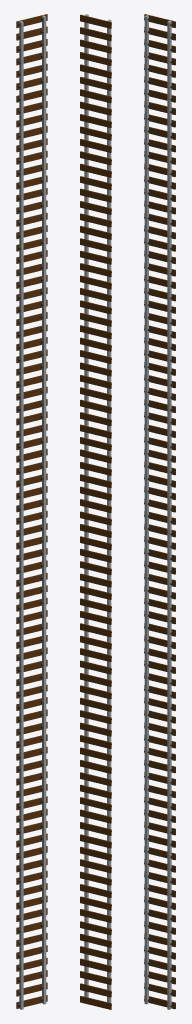
The model's file is tinker.obj.
The picture shows the model from 3 angles, left to right: view 1: azimuth 30°, elevation 25°; view 2: azimuth 150°, elevation 25°; view 3: azimuth 330°, elevation 25°; orthographic projection.
Parts seen in each view (by area): view 1: group_0_6306067, group_0_10988977, group_0_2829873; view 2: group_0_6306067, group_0_10988977; view 3: group_0_6306067, group_0_10988977, group_0_2829873.
Boxes of the visible parts, x1=… form: group_0_6306067: x1=16, y1=14, x2=47, y2=1008; group_0_10988977: x1=19, y1=15, x2=46, y2=1009; group_0_2829873: x1=18, y1=18, x2=46, y2=1007; group_0_6306067: x1=80, y1=14, x2=111, y2=1009; group_0_10988977: x1=84, y1=14, x2=111, y2=1002; group_0_6306067: x1=144, y1=14, x2=175, y2=1009; group_0_10988977: x1=144, y1=15, x2=171, y2=1009; group_0_2829873: x1=144, y1=18, x2=172, y2=1007.
Bounding box in the file's own units: 26 × 795 × 4.
